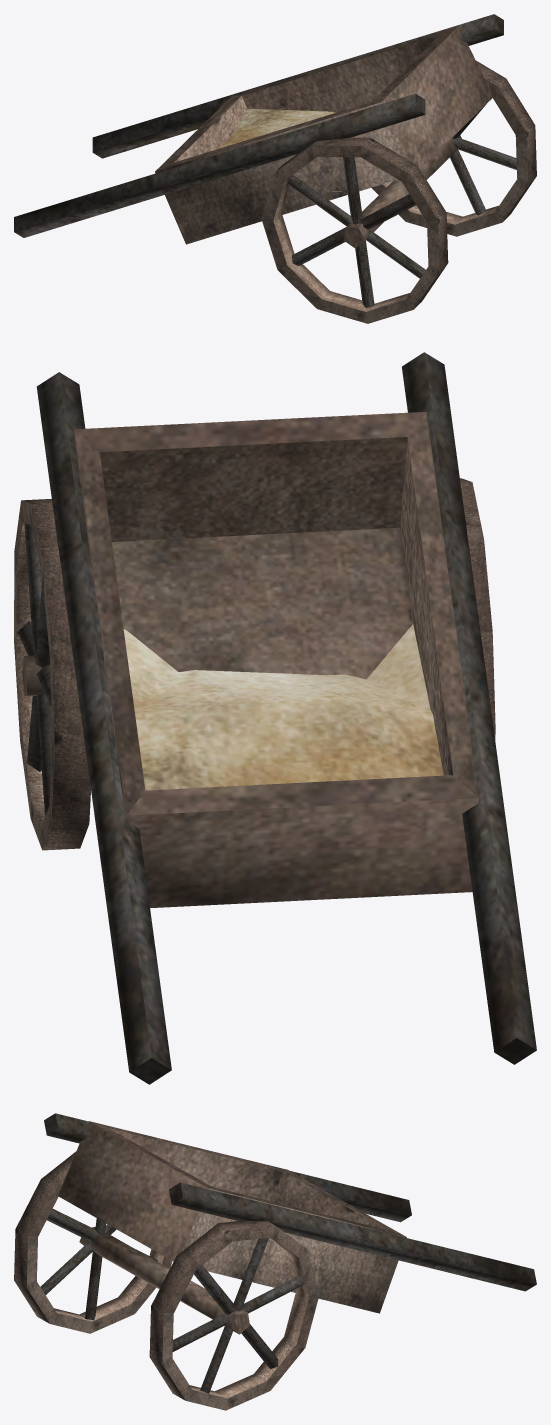
File: rome_farmstead_wood.glb
3 views of the same model, one above another, from view 1: azimuth 30°, elevation 25°; view 2: azimuth 150°, elevation 25°; view 3: azimuth 270°, elevation 25° (orthographic). The views are drawn at different scales.
Parts seen in each view (by area): view 1: Farmstead__Struct_000; view 2: Farmstead__Struct_000; view 3: Farmstead__Struct_000.
Part boxes in pixels (box(x1,y1,x2,y2)): Farmstead__Struct_000: box(14, 14, 536, 323); Farmstead__Struct_000: box(14, 352, 536, 1084); Farmstead__Struct_000: box(14, 1113, 536, 1410).
Size of the model in its own units: 4.33 by 2.33 by 4.78.
Materials: 1 (1 with a texture image).
